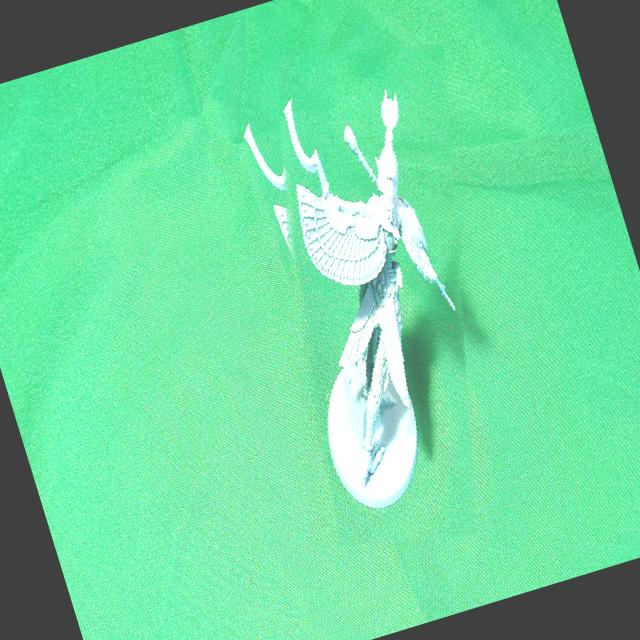isis: (195, 21, 556, 569)
